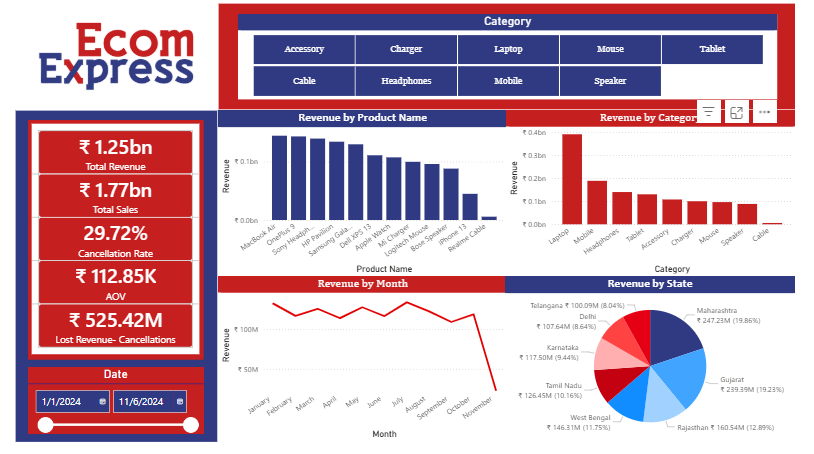

The dashboard page shown, as its layout file describes it:
{"tool":"powerbi","page":{"name":"Page 1","canvas":[1280,720],"ordinal":0},"visuals":[{"type":"image","box":[0,0,332.3,175.1],"z":0},{"type":"shape","box":[332.3,0,947.7,175.1],"z":1000},{"type":"shape","box":[0,175.1,332.3,545.1],"z":2000},{"type":"columnChart","fields":{"Category":["Products.Product Name"],"Y":["Table.Revenue"]},"box":[332.3,175.1,474.7,273.4],"z":3000},{"type":"columnChart","fields":{"Category":["Products.Category"],"Y":["Table.Revenue"]},"box":[805.3,175.1,474.7,273.4],"z":4000},{"type":"lineChart","fields":{"Category":["Orders.Date and time of purchase.Variation.Date Hierarchy.Year","Orders.Date and time of purchase.Variation.Date Hierarchy.Quarter","Orders.Date and time of purchase.Variation.Date Hierarchy.Month","Orders.Date and time of purchase.Variation.Date Hierarchy.Day"],"Y":["Table.Revenue"]},"box":[332,448,475,272],"z":5000},{"type":"pieChart","fields":{"Y":["Table.Revenue"],"Category":["Customers.State"]},"box":[803.4,448.3,475.9,272.4],"z":6000},{"type":"slicer","title":"Category","fields":{"Values":["Products.Category"]},"box":[365.5,17.2,884.5,139.7],"z":7000},{"type":"cardVisual","fields":{"Data":["Table.Revenue","Table.Sales","Table.Cancellation Rate","Table.AOV","Table.Lost_rev_cancellation"]},"box":[20.7,191.4,287.9,393.1],"z":8000},{"type":"slicer","title":"Date","fields":{"Values":["Orders.Date and time of purchase"]},"box":[20.7,596.6,287.9,108.6],"z":9000}]}

Visuals, with their boxes in screenshot pixels (x1, y1, x2, y2), scaled from the page's 1280x720 canvas onto the 814x454 screenshot:
image: region(0, 0, 211, 110)
shape: region(211, 0, 813, 110)
shape: region(0, 110, 211, 453)
columnChart - Products.Product Name x Table.Revenue: region(211, 110, 513, 283)
columnChart - Products.Category x Table.Revenue: region(512, 110, 813, 283)
lineChart - Orders.Date and time of purchase.Variation.Date Hierarchy.Year x Orders.Date and time of purchase.Variation.Date Hierarchy.Quarter: region(211, 282, 513, 453)
pieChart - Table.Revenue x Customers.State: region(511, 283, 813, 453)
"Category" slicer: region(232, 11, 795, 99)
cardVisual - Table.Revenue x Table.Sales: region(13, 121, 196, 369)
"Date" slicer: region(13, 376, 196, 445)
